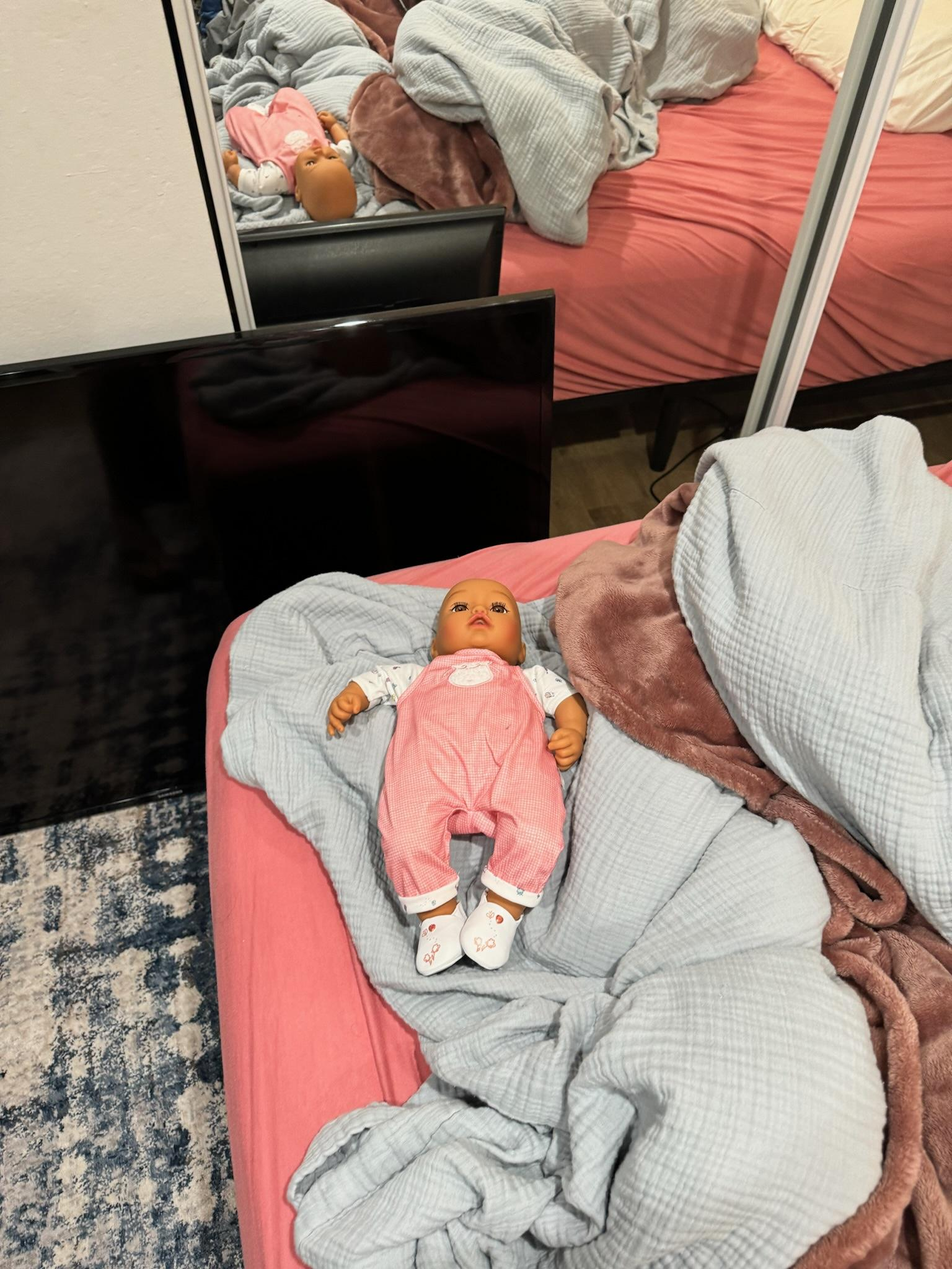baby: (328, 568, 597, 987)
